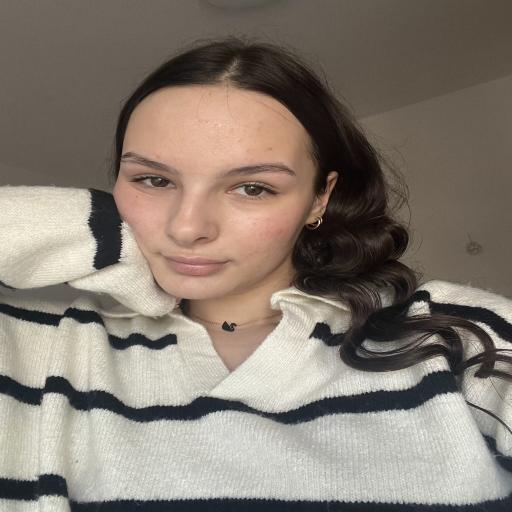marija: (114, 85, 319, 297)
